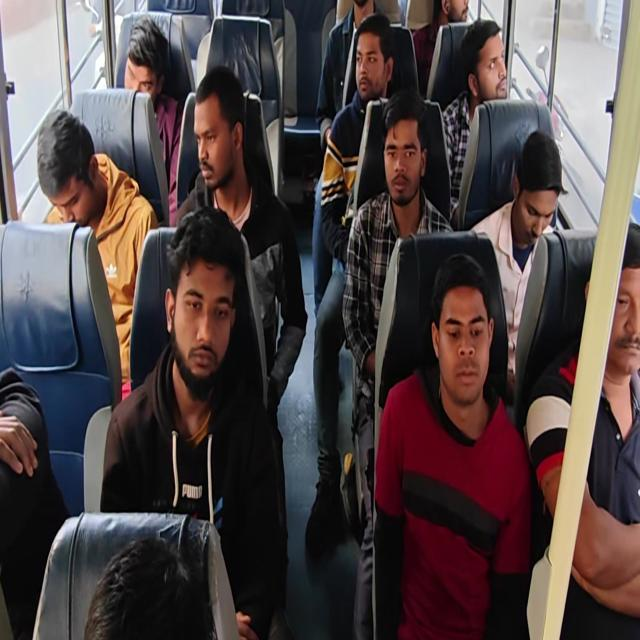person: (76, 525, 230, 640), (164, 209, 247, 411), (428, 253, 498, 405), (586, 219, 640, 411), (21, 102, 101, 230), (379, 88, 441, 216), (195, 54, 245, 195), (509, 121, 567, 242), (123, 7, 176, 114), (461, 20, 523, 104), (350, 13, 401, 102), (437, 0, 487, 45)
